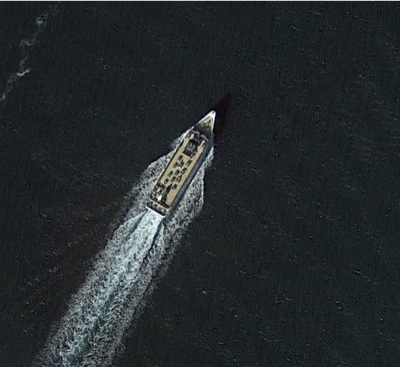boat: (145, 109, 218, 219)
